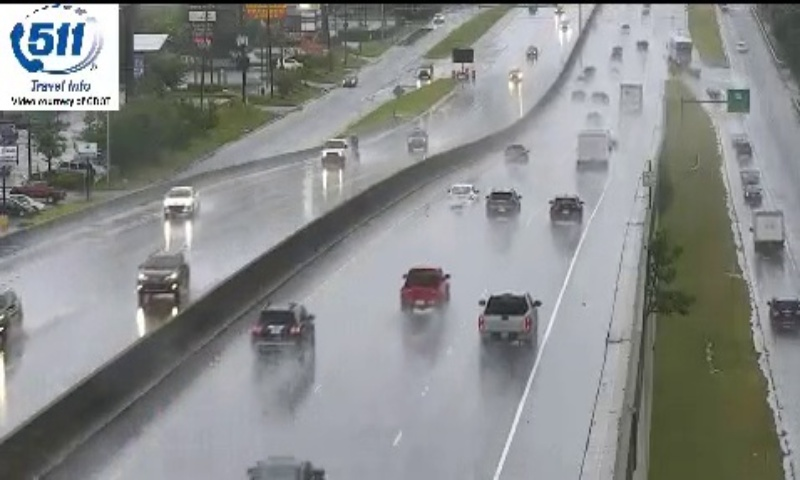car: (252, 304, 312, 354), (478, 293, 538, 340), (400, 268, 450, 308), (485, 188, 520, 217), (550, 196, 582, 222), (448, 182, 476, 209)
